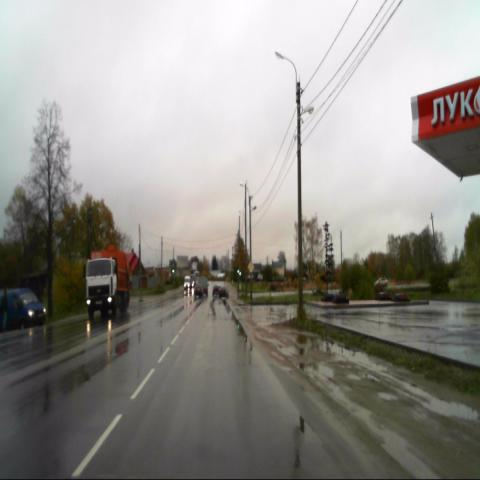2_1: (246, 259, 254, 272)
